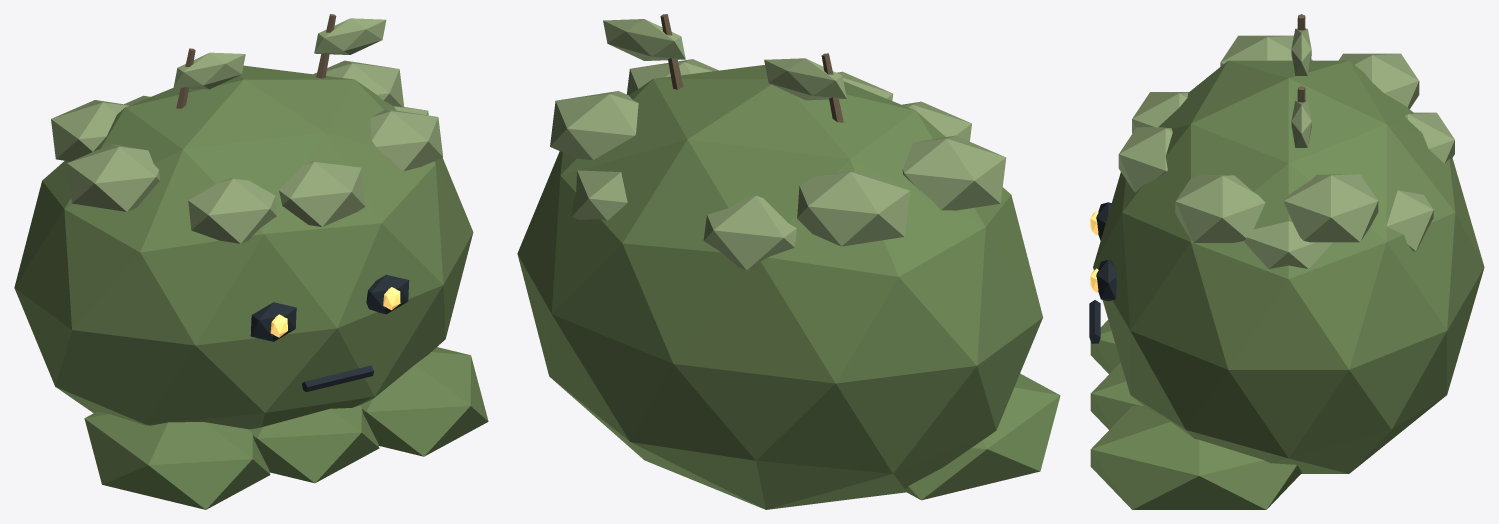
File: moss_slime.glb
The picture shows the model from 3 angles, left to right: view 1: azimuth 30°, elevation 25°; view 2: azimuth 150°, elevation 25°; view 3: azimuth 270°, elevation 25°; orthographic projection. The views are drawn at different scales.
Visible parts, largest first — view 1: Mossback body, Soft foot lobe, Soft foot lobe.002, Soft foot lobe.001, Moss cushion.004, Moss cushion.007, Moss cushion.002, Moss cushion.005, Moss cushion.001, Sprout leaf, Sprout leaf.001, Moss cushion.008 (+3 smaller); view 2: Mossback body, Soft foot lobe, Moss cushion.001, Moss cushion.004, Moss cushion.008, Moss cushion.006, Sprout leaf, Sprout leaf.001, Moss cushion.003, Moss cushion.005, Moss cushion.007; view 3: Mossback body, Soft foot lobe.002, Moss cushion.008, Moss cushion.005, Moss cushion, Moss cushion.002, Moss cushion.001, Moss cushion.003, Soft foot lobe.001, Moss cushion.004, Moss cushion.006, Moss cushion.007 (+5 smaller).
Part boxes in pixels (<box>): Mossback body: <box>14,65,473,429</box>; Soft foot lobe: <box>84,411,270,509</box>; Soft foot lobe.002: <box>360,347,488,456</box>; Soft foot lobe.001: <box>250,405,379,483</box>; Moss cushion.004: <box>67,144,159,211</box>; Moss cushion.007: <box>188,178,276,243</box>; Moss cushion.002: <box>279,161,365,226</box>; Moss cushion.005: <box>370,109,442,171</box>; Moss cushion.001: <box>51,100,129,161</box>; Sprout leaf: <box>173,52,245,89</box>; Sprout leaf.001: <box>314,18,386,54</box>; Moss cushion.008: <box>313,60,404,106</box>; Mossback body: <box>517,65,1042,509</box>; Soft foot lobe: <box>904,373,1060,500</box>; Moss cushion.001: <box>797,170,909,246</box>; Moss cushion.004: <box>902,135,1006,210</box>; Moss cushion.008: <box>550,91,638,159</box>; Moss cushion.006: <box>703,195,796,270</box>; Sprout leaf: <box>764,58,846,100</box>; Sprout leaf.001: <box>603,19,685,60</box>; Moss cushion.003: <box>571,170,627,220</box>; Moss cushion.005: <box>626,59,718,95</box>; Moss cushion.007: <box>902,101,971,141</box>; Mossback body: <box>1093,60,1484,473</box>; Soft foot lobe.002: <box>1090,406,1302,509</box>; Moss cushion.008: <box>1284,174,1378,242</box>; Moss cushion.005: <box>1175,174,1265,242</box>; Moss cushion: <box>1244,221,1332,268</box>; Moss cushion.002: <box>1118,127,1172,192</box>; Moss cushion.001: <box>1338,53,1419,109</box>; Moss cushion.003: <box>1386,190,1433,251</box>; Soft foot lobe.001: <box>1090,362,1143,429</box>; Moss cushion.004: <box>1220,35,1312,66</box>; Moss cushion.006: <box>1404,112,1454,163</box>; Moss cushion.007: <box>1132,92,1188,133</box>.
Size of the model in its own units: 1.14 by 1.08 by 0.9283.
